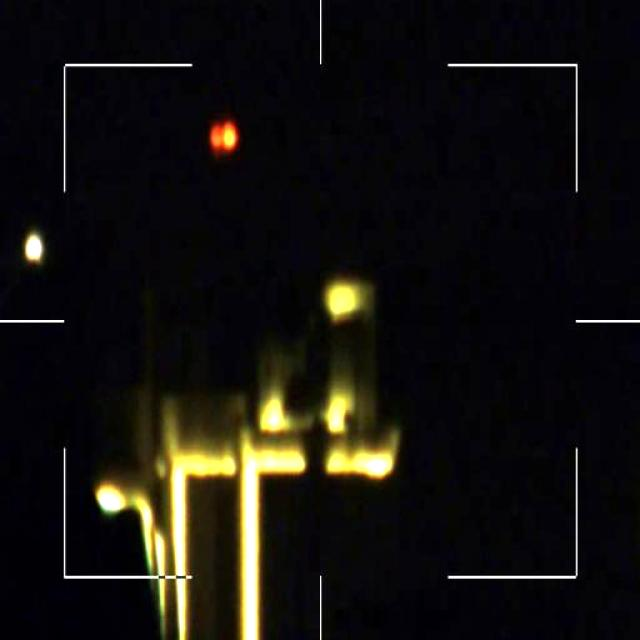bird: (205, 118, 236, 158)
